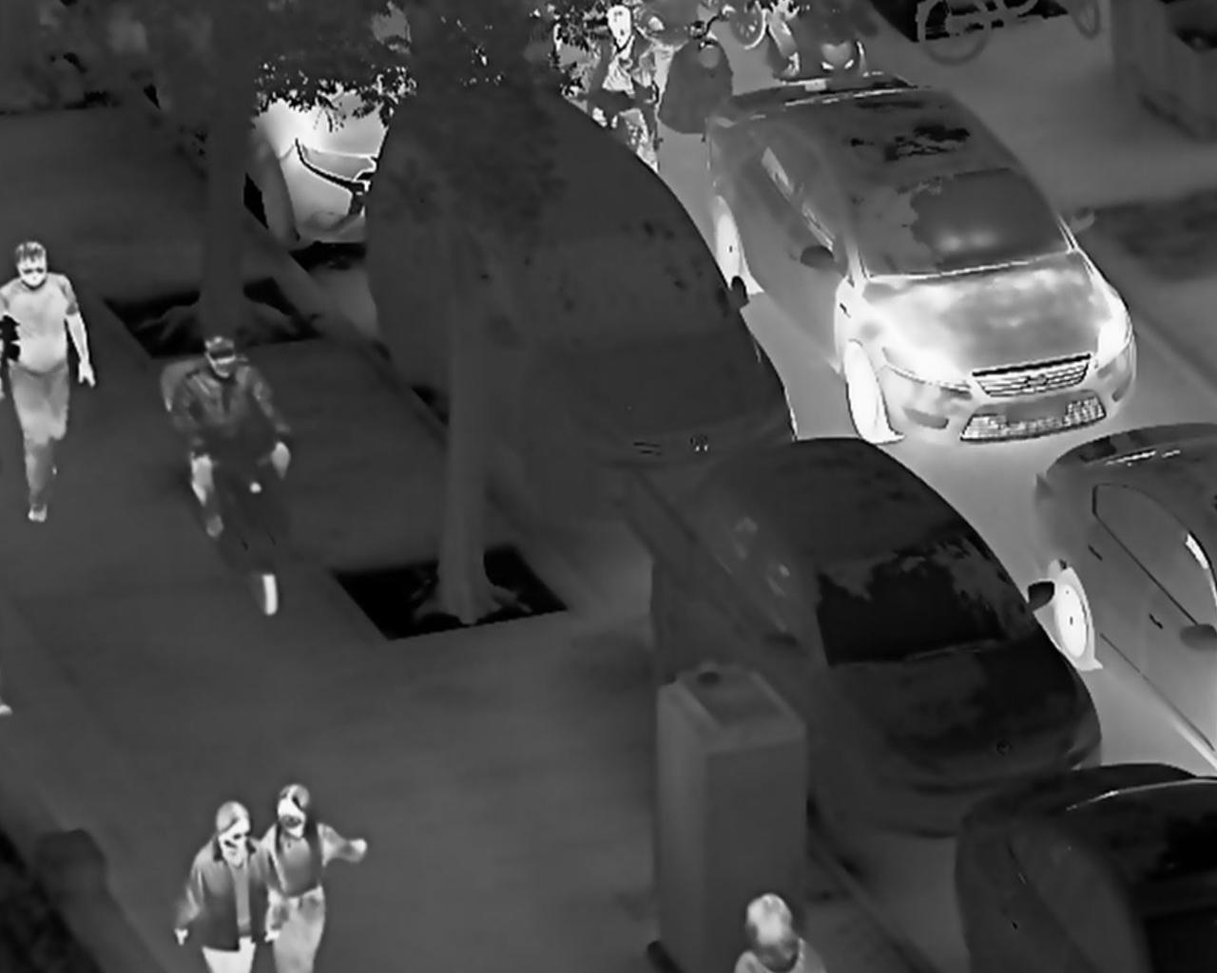person: (2, 237, 100, 526), (169, 332, 294, 546), (254, 781, 368, 973), (170, 797, 266, 973), (574, 6, 662, 178)
